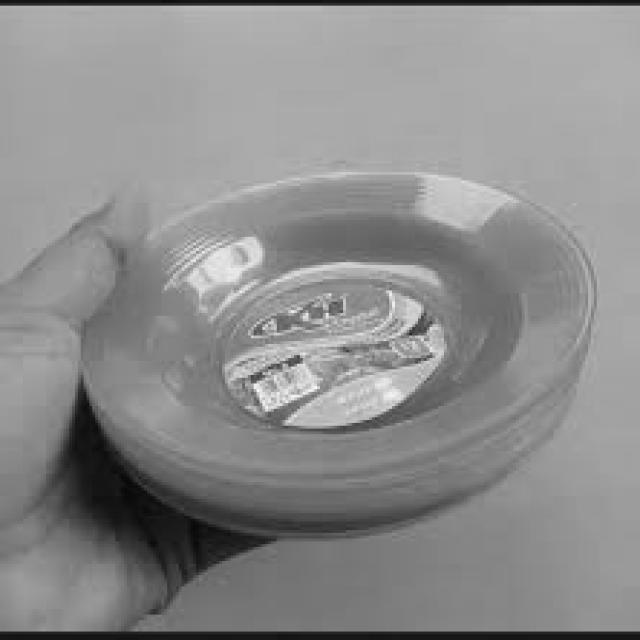dish: (64, 153, 609, 557)
